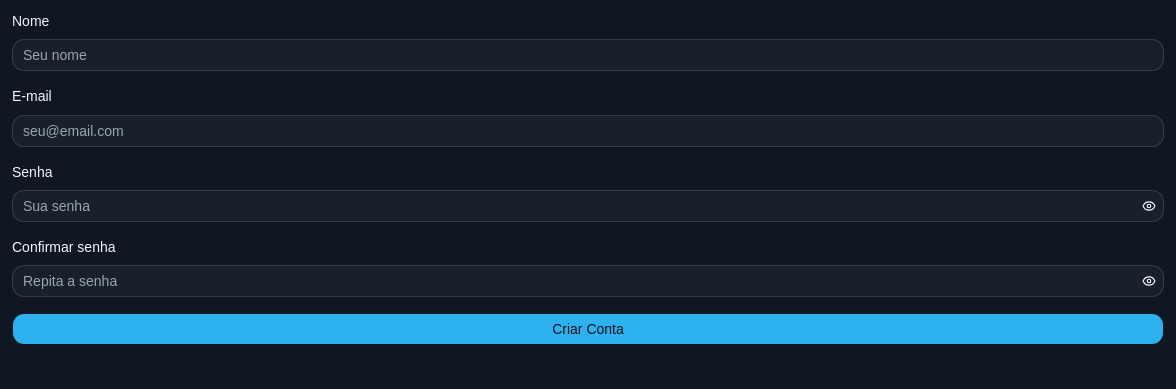
Test: SignUpForm › deve exibir erro específico no campo quando o e-mail é inválido
Type "Maria Oliveira" into the field labelled "Nome" at (588, 55), box [12, 39, 1164, 71]
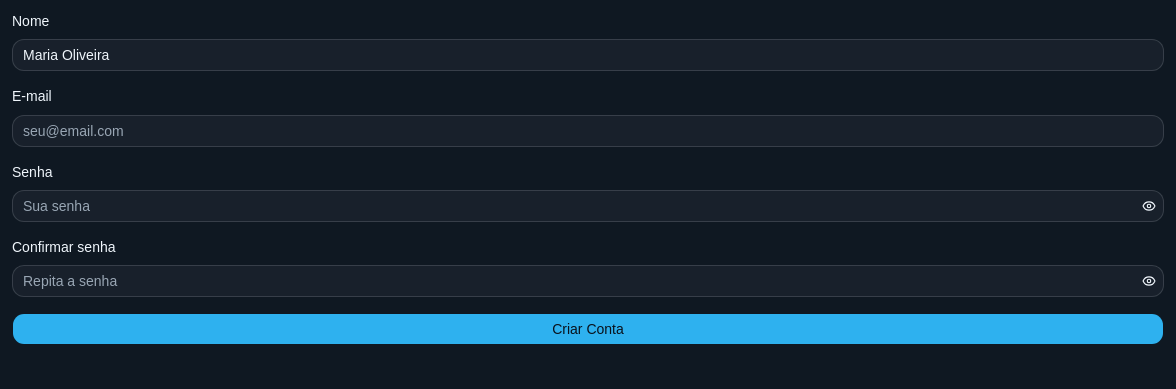
Type "e-mail-invalido" into the field labelled "E-mail" at (588, 130), box [12, 114, 1164, 146]
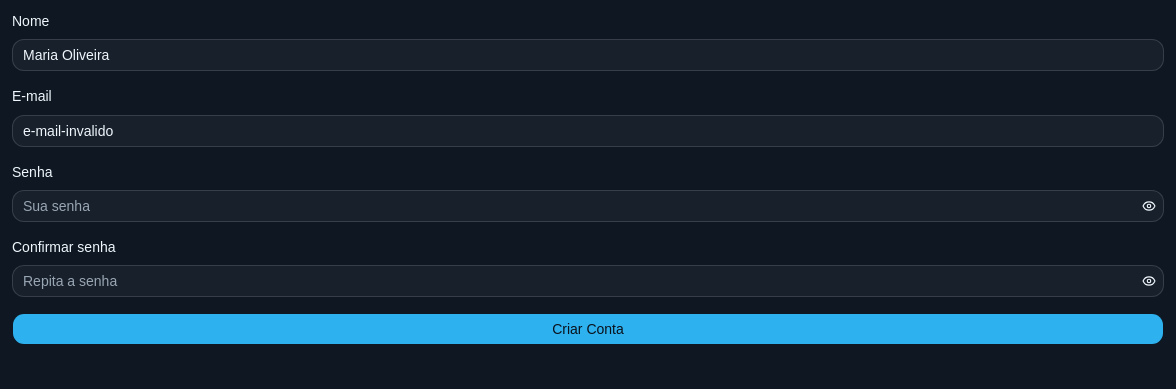
Type "Senha@123" into the password field labelled "Senha" at (574, 206), box [13, 190, 1135, 222]
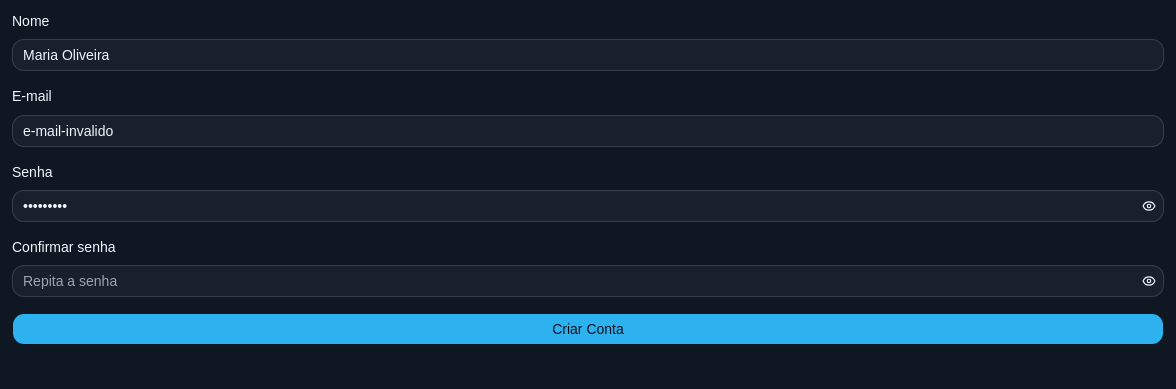
Type "Senha@123" into the password field labelled "Confirmar senha" at (574, 281), box [13, 265, 1135, 297]
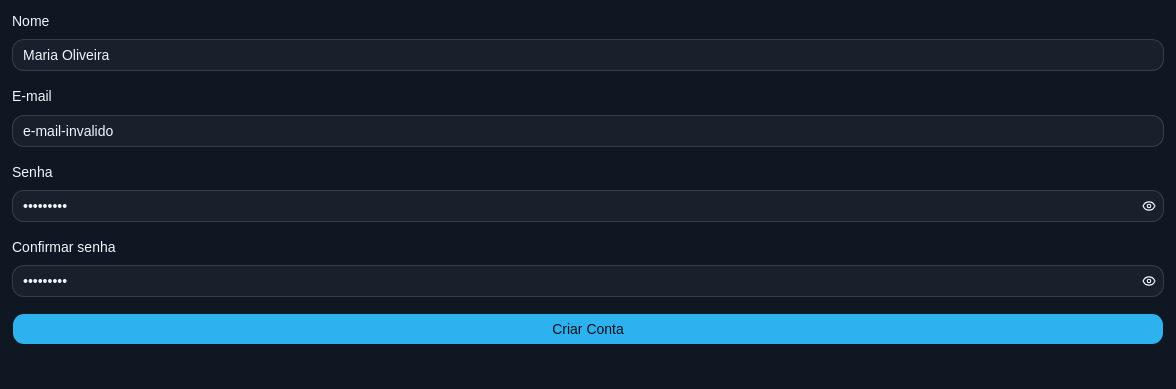
Click the button "Criar Conta" at (588, 329), box [12, 313, 1164, 345]
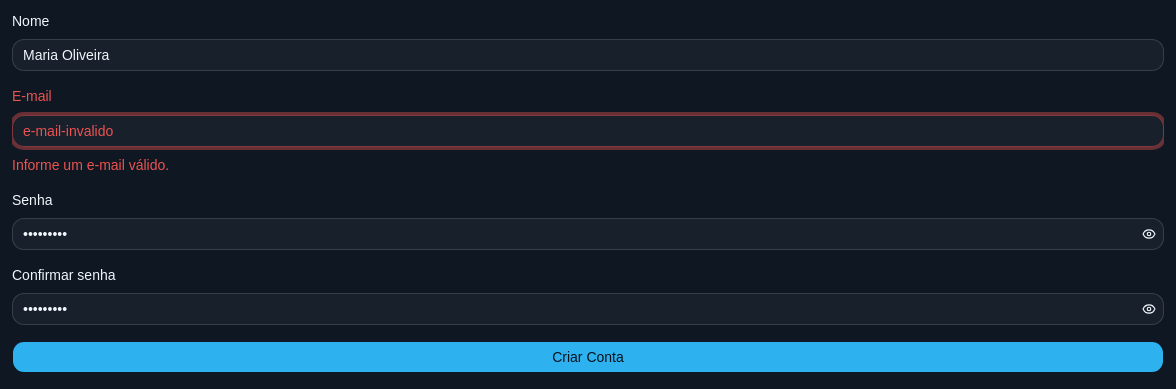
Check: the text "Informe um e-mail válido." is shown, box [12, 156, 169, 172]
